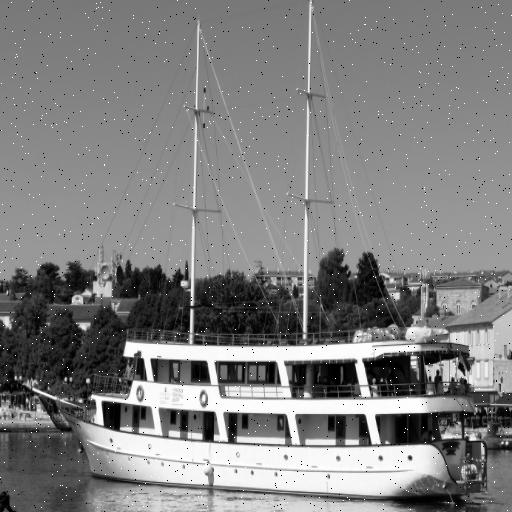cruises: (65, 326, 494, 512)
